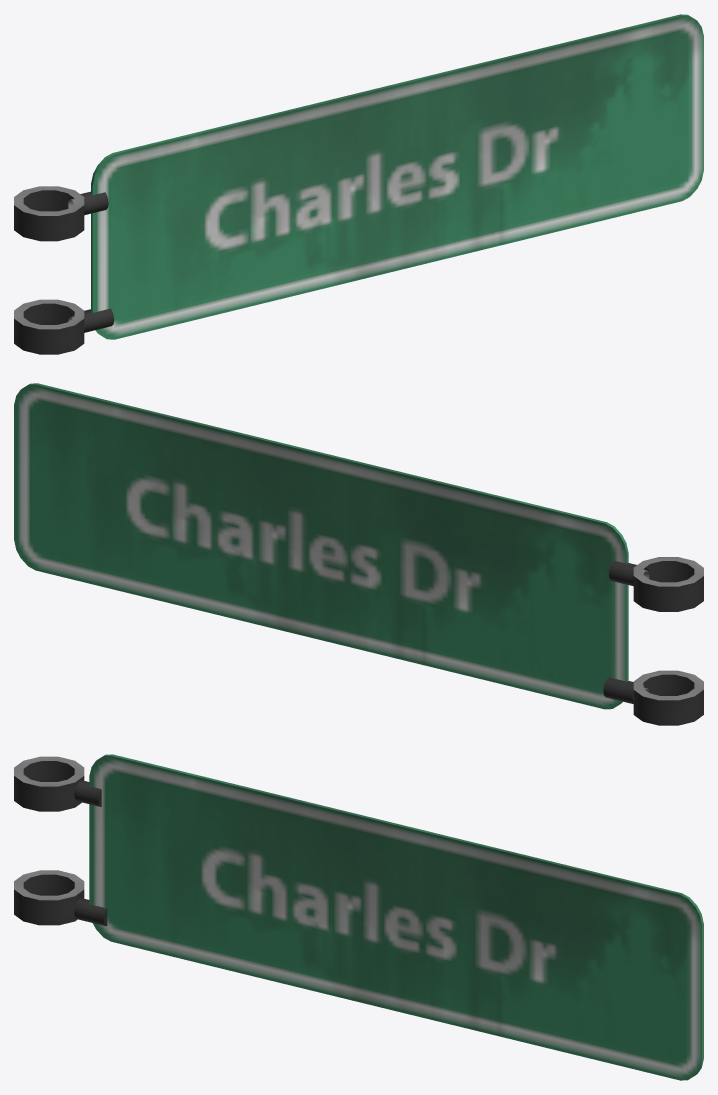
Rendered from Sign_St_Charles.fbx.
The picture shows the model from 3 angles, top to bottom: view 1: azimuth 30°, elevation 25°; view 2: azimuth 150°, elevation 25°; view 3: azimuth 330°, elevation 25°; orthographic projection.
Visible parts, largest first — view 1: Sign_St_Charles; view 2: Sign_St_Charles; view 3: Sign_St_Charles.
Boxes of the visible parts, box(x1,y1,x2,y2) form: Sign_St_Charles: box(14, 14, 703, 354); Sign_St_Charles: box(14, 383, 703, 725); Sign_St_Charles: box(14, 754, 703, 1080).
Size of the model in its own units: 158 by 40.91 by 14.06.
